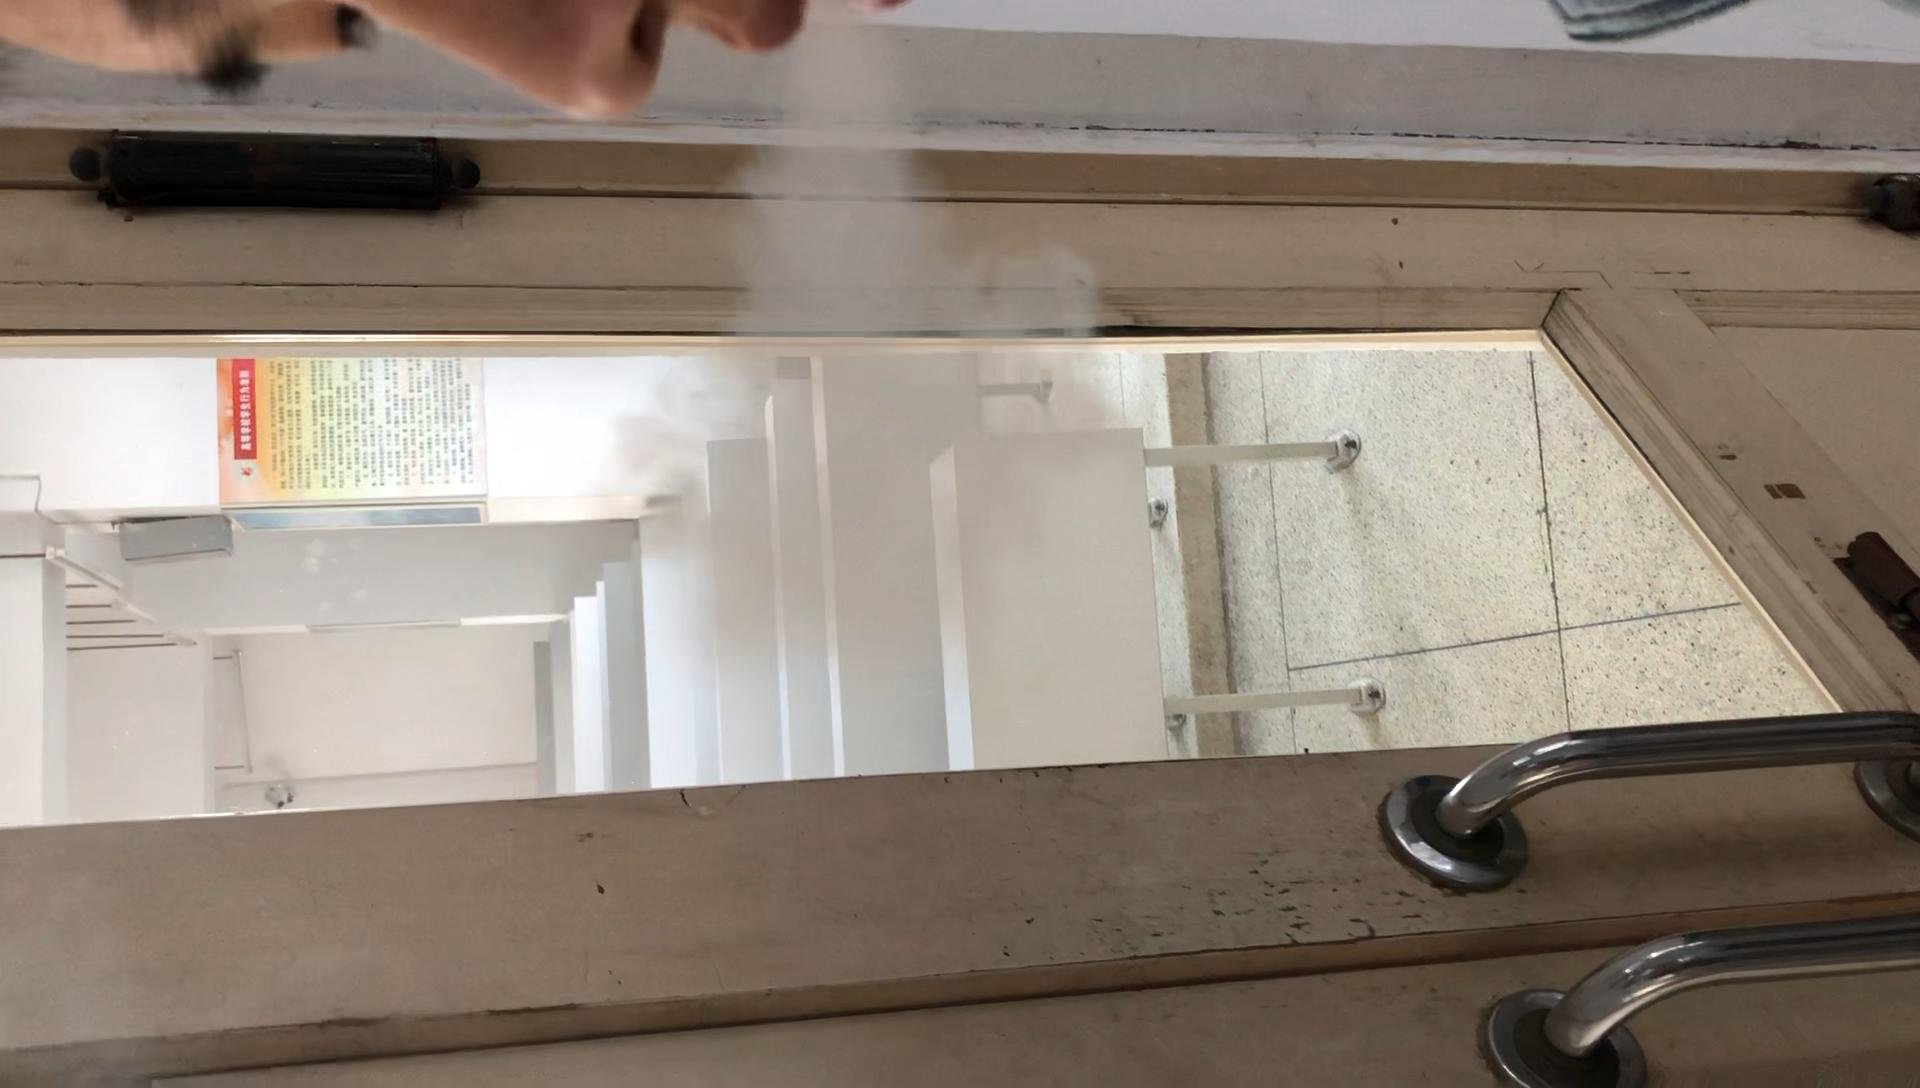yanwu: (587, 33, 1112, 678)
